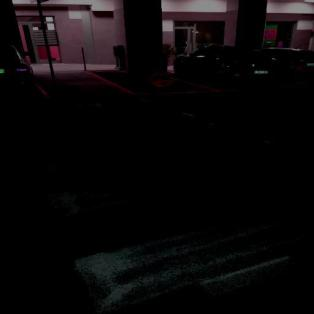Paso de Cebra: (20, 119, 285, 177)
